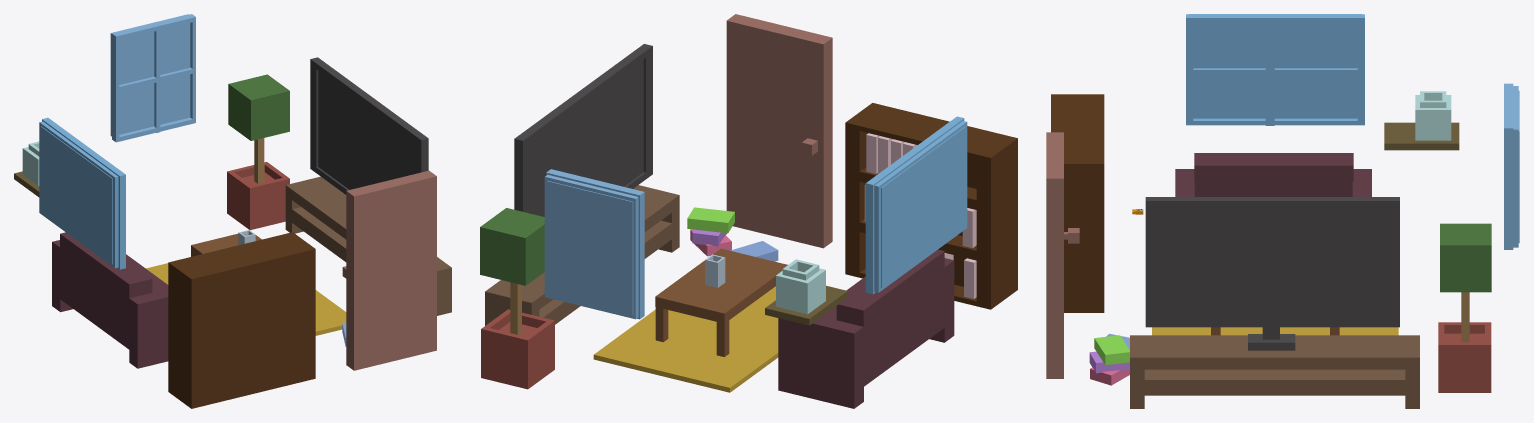
The model's file is PES-NARANJA.fbx.
3 renders of one model, left to right at view 1: azimuth 30°, elevation 25°; view 2: azimuth 150°, elevation 25°; view 3: azimuth 270°, elevation 25°, orthographic. The views are drawn at different scales.
Visible parts, largest first — view 1: librero, puerta, tele, ventana, sillon, ventana2, maceta, mesa tele, alfombra, pecera, mesa de centro; view 2: puerta, sillon, librero, tele, ventana, ventana2, alfombra, maceta, mesa de centro, mesa tele, libros, pecera (+4 smaller); view 3: tele, ventana2, mesa tele, librero, sillon, maceta, puerta, ventana, alfombra, pecera, repisa, libro suelto.003 (+2 smaller).
Part boxes in pixels (x1=…): librero: x1=168, y1=232, x2=315, y2=408; puerta: x1=342, y1=170, x2=436, y2=370; tele: x1=310, y1=57, x2=428, y2=194; ventana: x1=110, y1=14, x2=195, y2=142; sillon: x1=52, y1=232, x2=168, y2=368; ventana2: x1=39, y1=117, x2=125, y2=269; maceta: x1=227, y1=74, x2=289, y2=230; mesa tele: x1=285, y1=176, x2=451, y2=315; alfombra: x1=146, y1=263, x2=346, y2=335; pecera: x1=22, y1=141, x2=39, y2=186; mesa de centro: x1=191, y1=233, x2=261, y2=256; puerta: x1=726, y1=14, x2=832, y2=248; sillon: x1=778, y1=249, x2=954, y2=408; librero: x1=845, y1=103, x2=1017, y2=309; tele: x1=514, y1=44, x2=652, y2=216; ventana: x1=544, y1=169, x2=644, y2=319; ventana2: x1=865, y1=116, x2=967, y2=294; alfombra: x1=593, y1=286, x2=778, y2=392; maceta: x1=480, y1=208, x2=554, y2=389; mesa de centro: x1=655, y1=248, x2=787, y2=356; mesa tele: x1=485, y1=185, x2=679, y2=325; libros: x1=864, y1=133, x2=976, y2=298; pecera: x1=776, y1=259, x2=825, y2=314; tele: x1=1145, y1=197, x2=1399, y2=350; ventana2: x1=1186, y1=14, x2=1364, y2=125; mesa tele: x1=1130, y1=335, x2=1419, y2=408; librero: x1=1051, y1=94, x2=1104, y2=312; sillon: x1=1175, y1=153, x2=1371, y2=196; maceta: x1=1438, y1=223, x2=1491, y2=392; puerta: x1=1046, y1=132, x2=1079, y2=378; ventana: x1=1504, y1=83, x2=1519, y2=249; alfombra: x1=1152, y1=327, x2=1398, y2=335; pecera: x1=1415, y1=91, x2=1451, y2=140; repisa: x1=1384, y1=122, x2=1459, y2=150; libro suelto.003: x1=1094, y1=335, x2=1129, y2=365.
Bounding box in the file's own units: 1559 × 950 × 1785.
